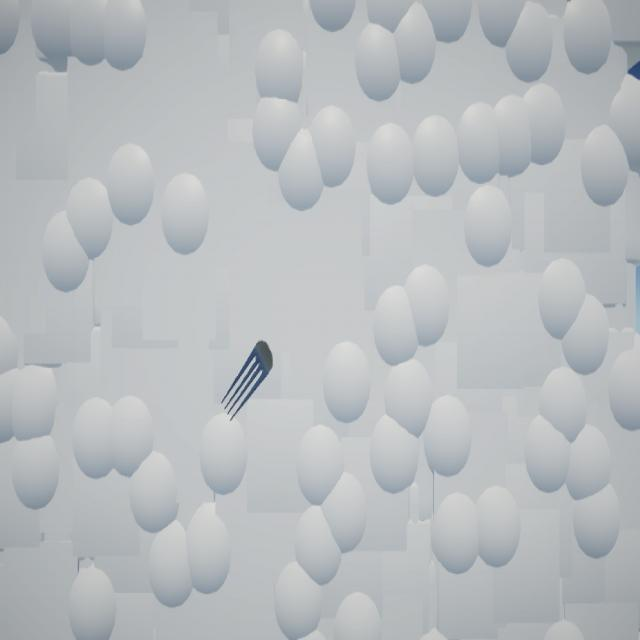top_folk: (222, 340, 274, 422)
